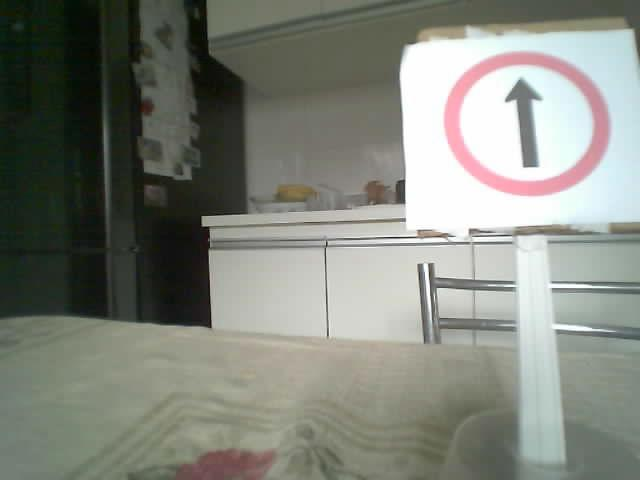R-26_frente: (442, 50, 605, 196)
